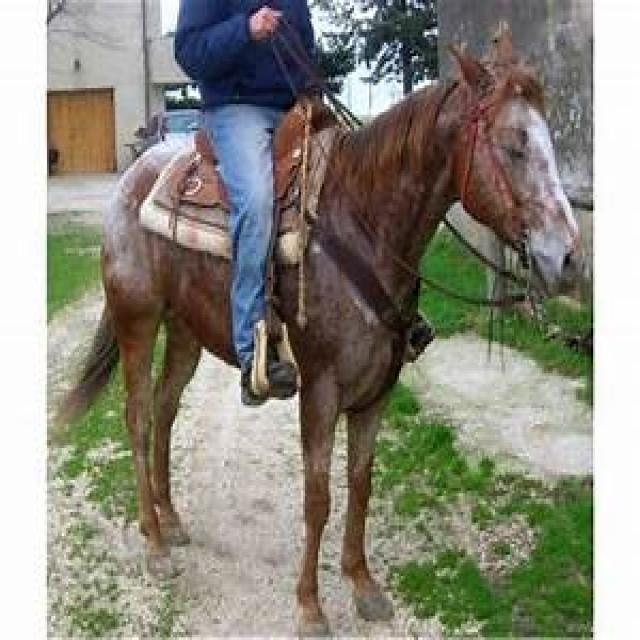horse: (265, 29, 580, 637), (64, 141, 239, 552)
